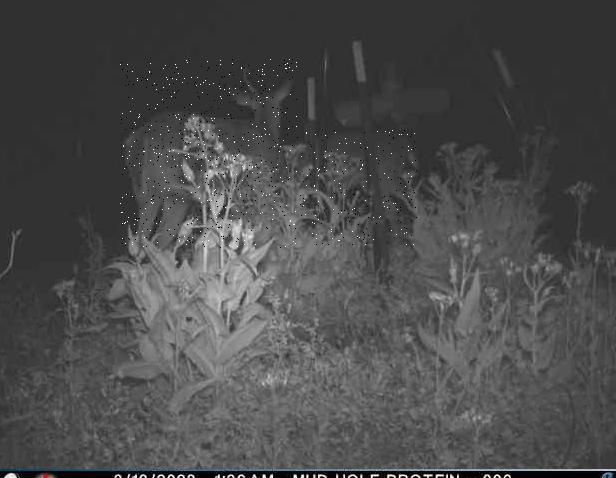Deer: (120, 59, 297, 248), (279, 130, 417, 245)
